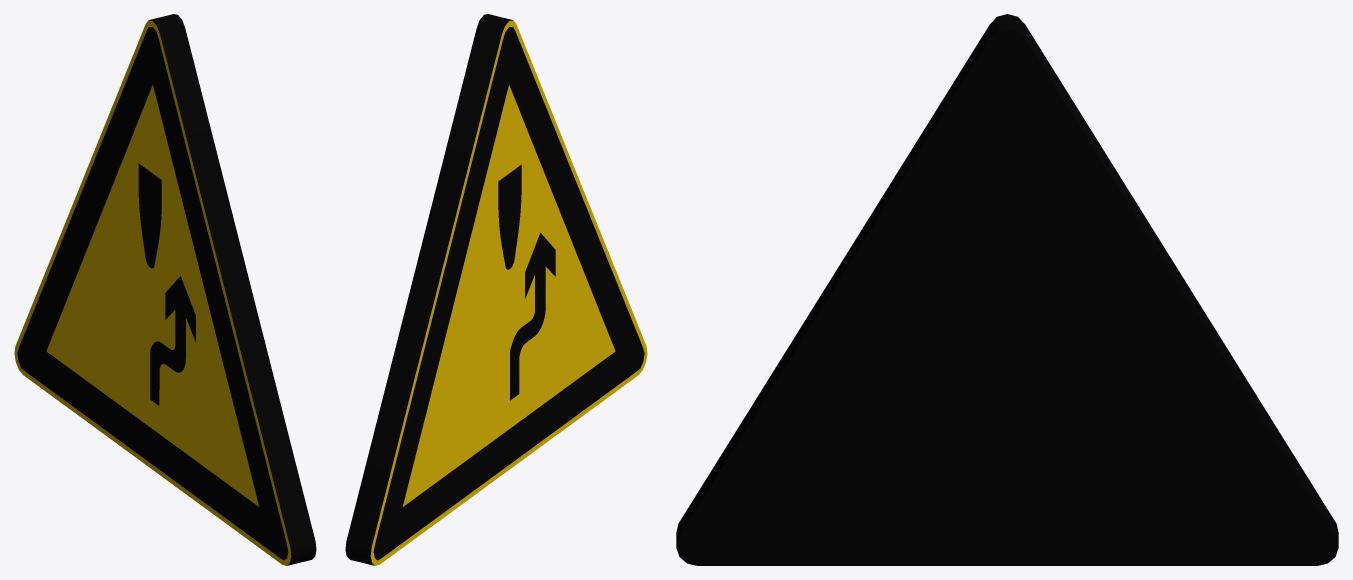
File: Detour_On_The_Right.fbx
The picture shows the model from 3 angles, left to right: view 1: azimuth 30°, elevation 25°; view 2: azimuth 150°, elevation 25°; view 3: azimuth 270°, elevation 25°; orthographic projection. The views are drawn at different scales.
Parts seen in each view (by area): view 1: Detour_On_The_Right; view 2: Detour_On_The_Right; view 3: Detour_On_The_Right.
Part boxes in pixels (x1,y1,x2,y2): Detour_On_The_Right: [14, 14, 316, 565]; Detour_On_The_Right: [345, 14, 647, 565]; Detour_On_The_Right: [676, 14, 1338, 565].
Size of the model in its own units: 0.0643 by 1.02 by 1.14.
